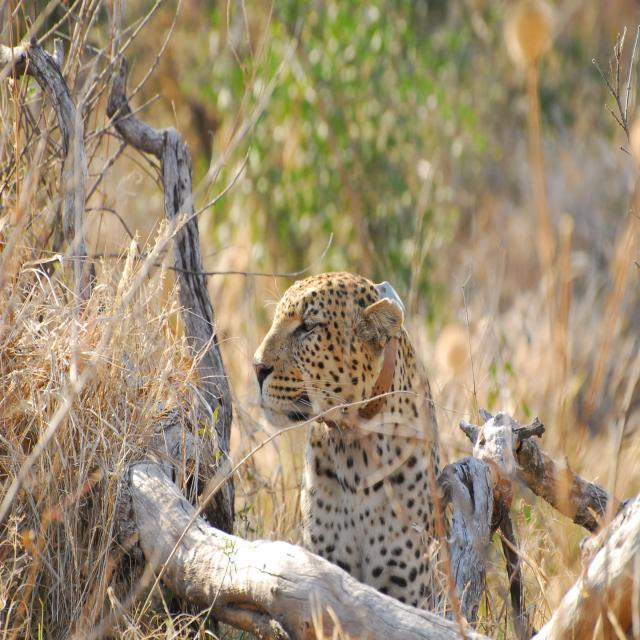Leopard: (255, 270, 447, 610)
